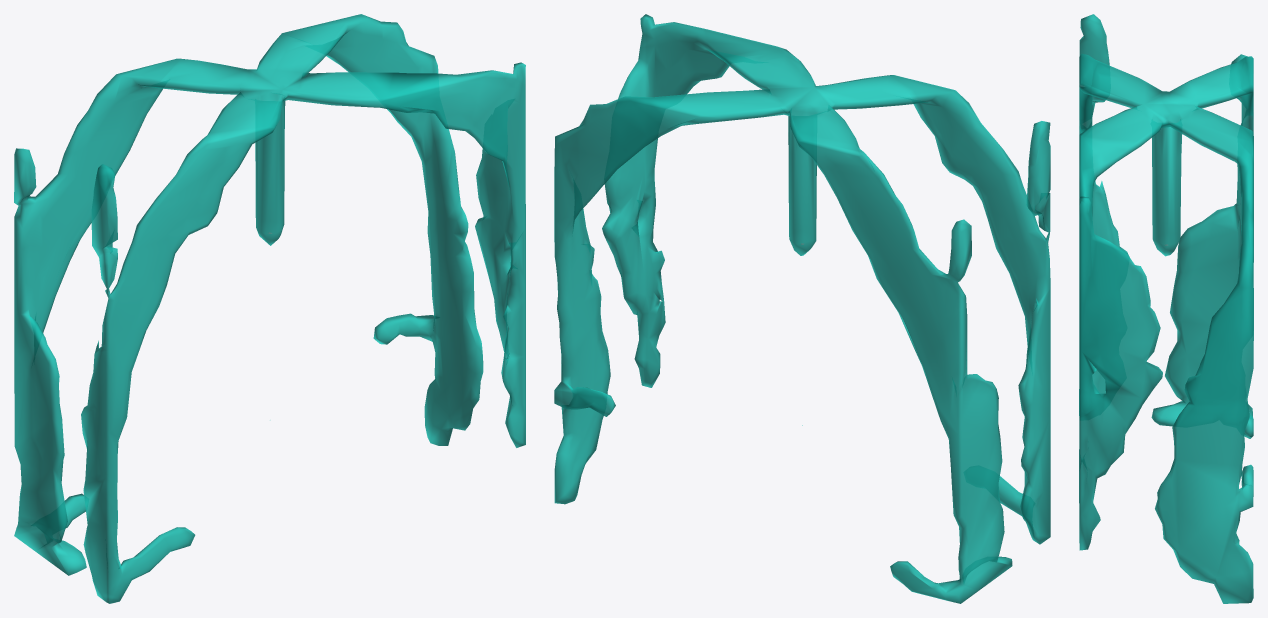
3 renders of one model, left to right at view 1: azimuth 30°, elevation 25°; view 2: azimuth 150°, elevation 25°; view 3: azimuth 270°, elevation 25°, orthographic. The views are drawn at different scales.
Visible parts, largest first — view 1: Liquid_Domain; view 2: Liquid_Domain; view 3: Liquid_Domain.
Part boxes in pixels (<box>): Liquid_Domain: <box>14,14,525,603</box>; Liquid_Domain: <box>554,14,1050,603</box>; Liquid_Domain: <box>1079,14,1253,603</box>.
Bounding box in the file's own units: 885 × 884 × 345.
